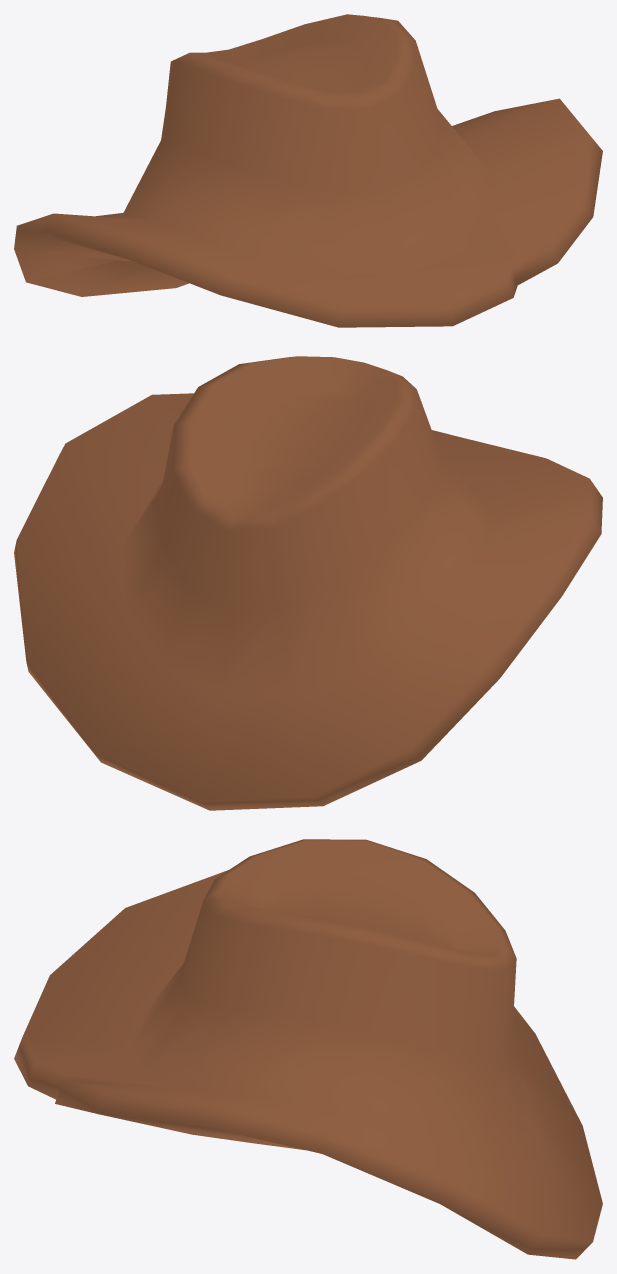
Rendered from accessory-cowboyhat.glb.
3 renders of one model, top to bottom at view 1: azimuth 30°, elevation 25°; view 2: azimuth 150°, elevation 25°; view 3: azimuth 270°, elevation 25°, orthographic. The views are drawn at different scales.
Parts seen in each view (by area): view 1: accessory__JA_m_Hat13__0; view 2: accessory__JA_m_Hat13__0; view 3: accessory__JA_m_Hat13__0.
Part boxes in pixels (x1,y1,x2,y2): accessory__JA_m_Hat13__0: (14, 14, 602, 327); accessory__JA_m_Hat13__0: (14, 356, 602, 810); accessory__JA_m_Hat13__0: (14, 839, 602, 1259).
Size of the model in its own units: 0.8651 by 0.5261 by 0.804.
